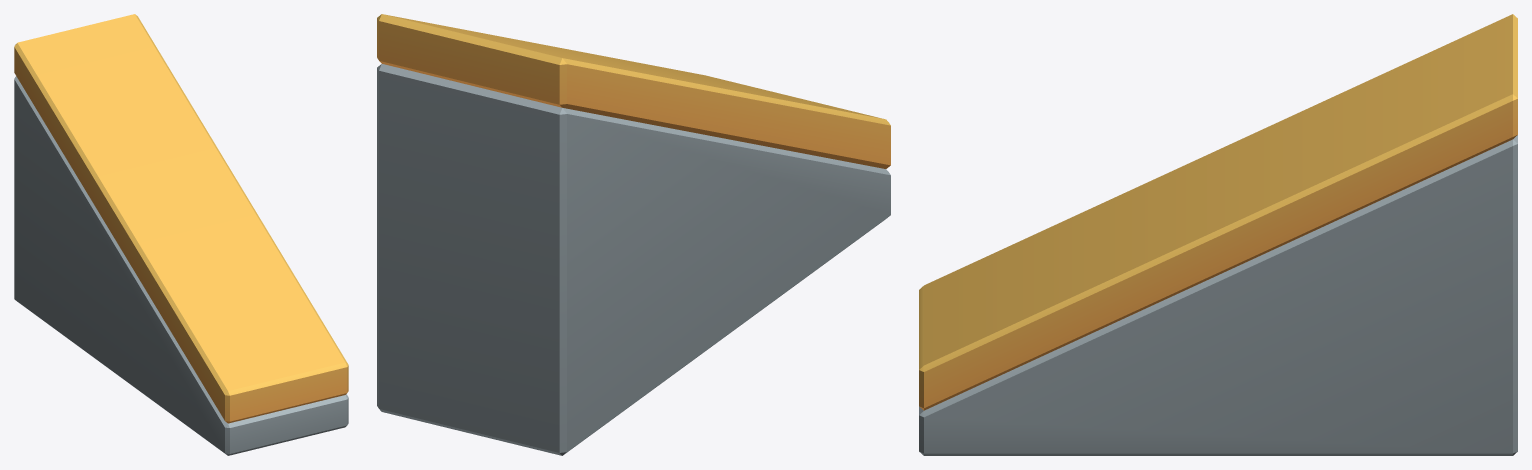
Rendered from platform_slope_2x6x4_yellow.glb.
3 views of the same model, side by side, from view 1: azimuth 30°, elevation 25°; view 2: azimuth 150°, elevation 25°; view 3: azimuth 270°, elevation 25° (orthographic). The views are drawn at different scales.
Visible parts, largest first — view 1: platform_slope_2x6x4_yellow; view 2: platform_slope_2x6x4_yellow; view 3: platform_slope_2x6x4_yellow.
Boxes of the visible parts, x1,y1,x2,y2 form: platform_slope_2x6x4_yellow: (14,14,348,455); platform_slope_2x6x4_yellow: (377,14,890,455); platform_slope_2x6x4_yellow: (919,14,1517,455).
Size of the model in its own units: 2 by 4 by 6.
1 material, 1 textured.
